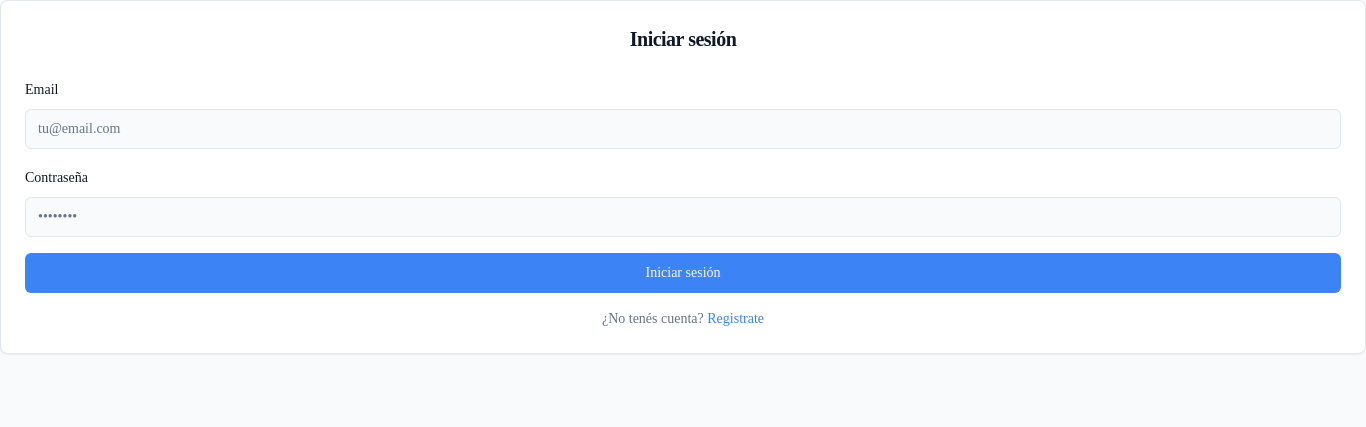
Test: LoginPage › muestra error de validación si el email es inválido
This screenshot has width=1366, height=427.
Type "email-invalido" into the field labelled "Email". click: (683, 129)
box: [25,109,1341,149]
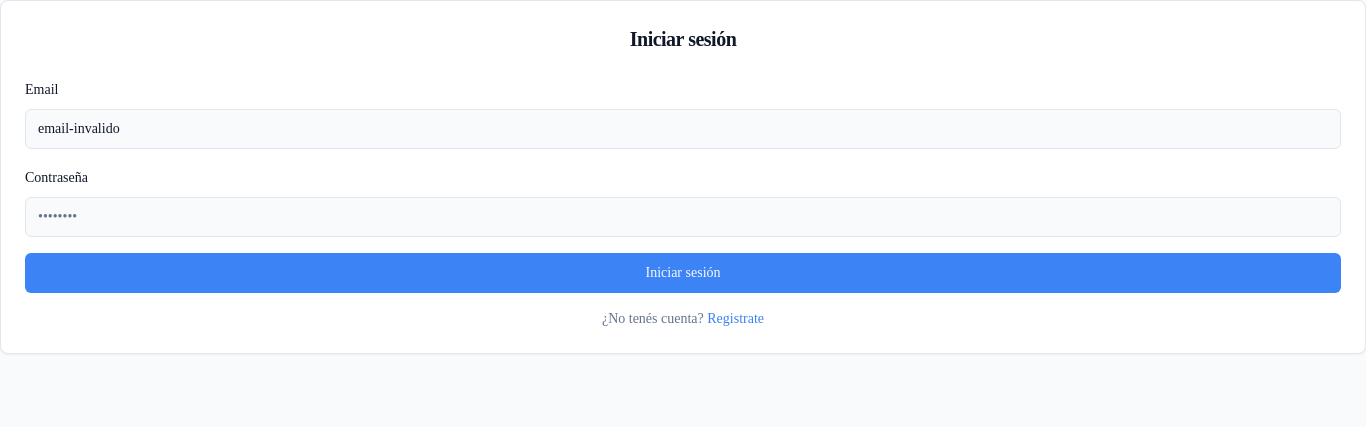
Submit the form "Iniciar sesión", box [25,77,1341,293]
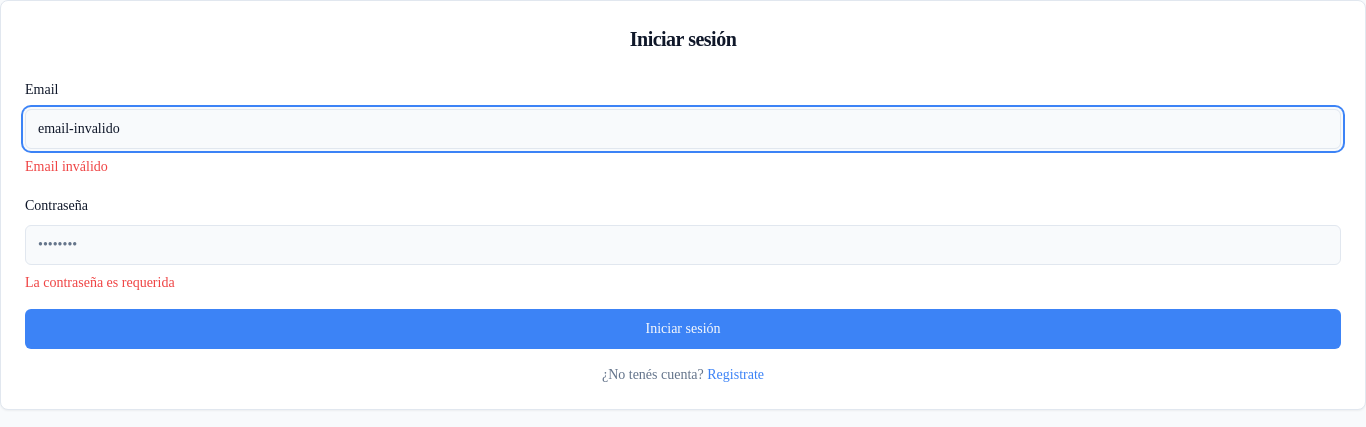
expect the text "Email inválido" is shown: met, box [25,159,108,174]
